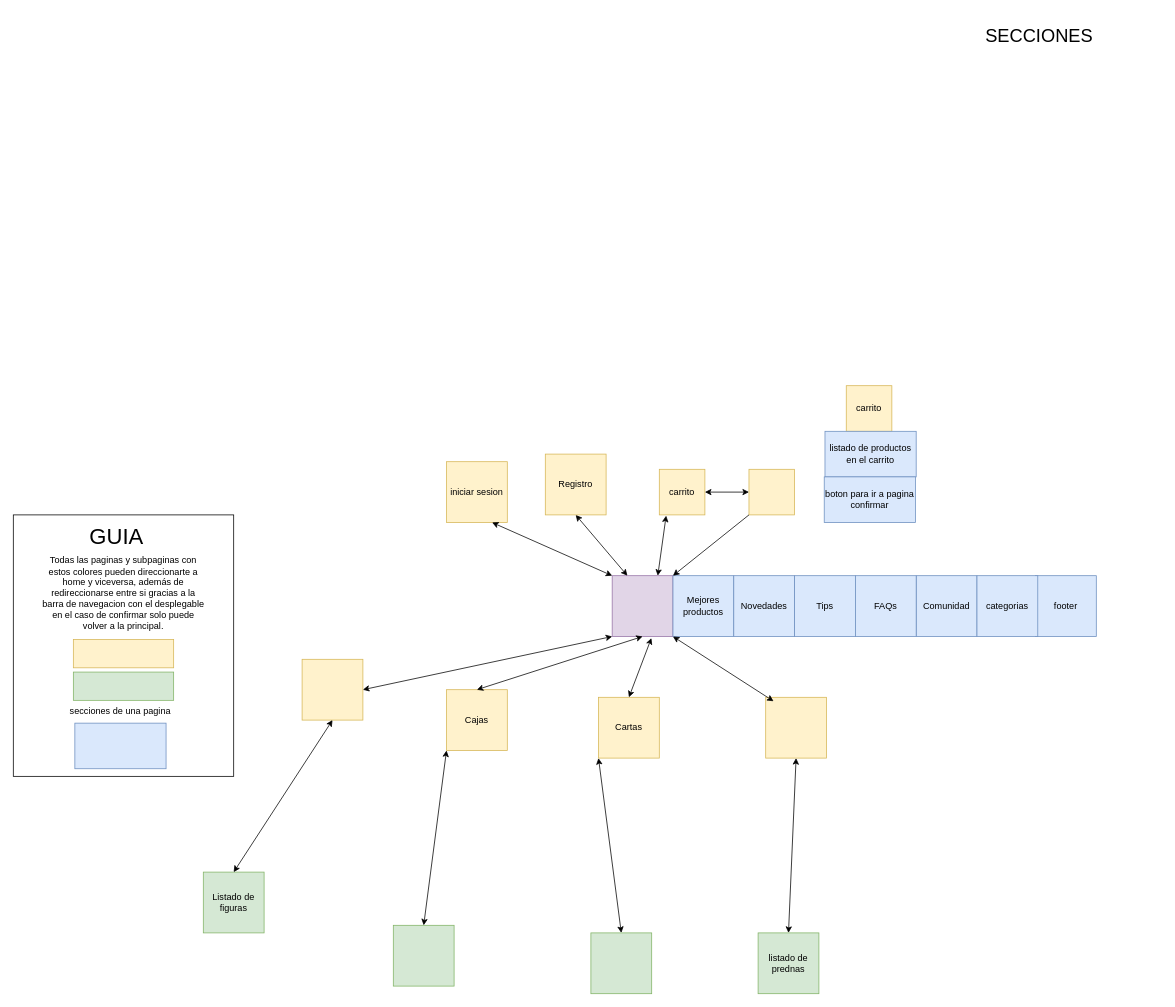
Image size: 1175x1007. Some labels were removed from this diagram. The box of each missing label's shape, as (x1, y1, x2, y2) in pixels:
Confirmar: (748, 469, 795, 515)
Figuras: (301, 659, 363, 720)
listado de cajas: (393, 925, 454, 986)
listado de cartas: (590, 932, 652, 994)
Principal: (611, 575, 673, 636)
Ropa: (765, 697, 826, 758)
